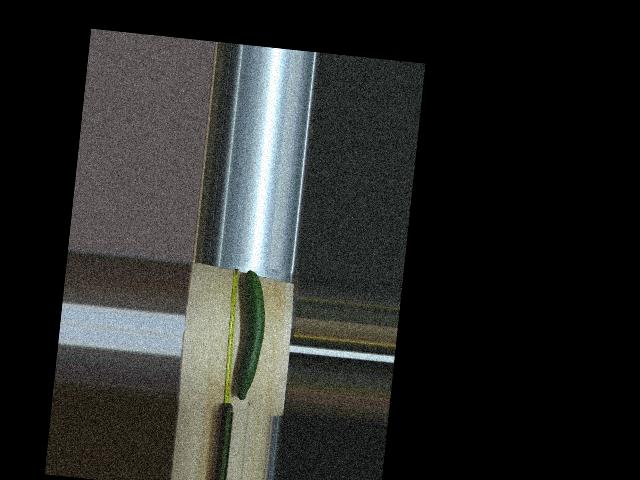cucumber: (231, 269, 269, 401)
